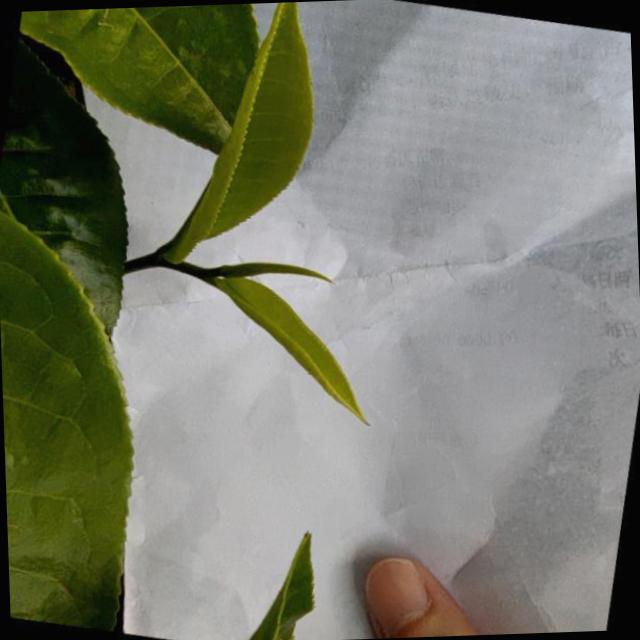Stem: (143, 253, 160, 266)
